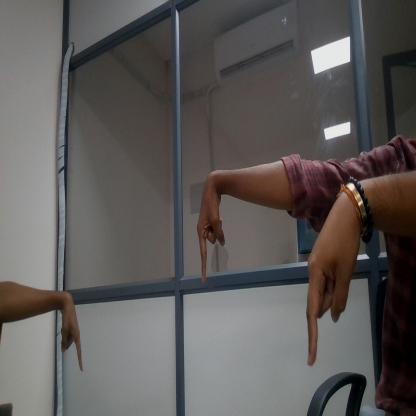Down: (299, 212, 359, 375), (191, 172, 229, 287), (54, 285, 88, 378)
